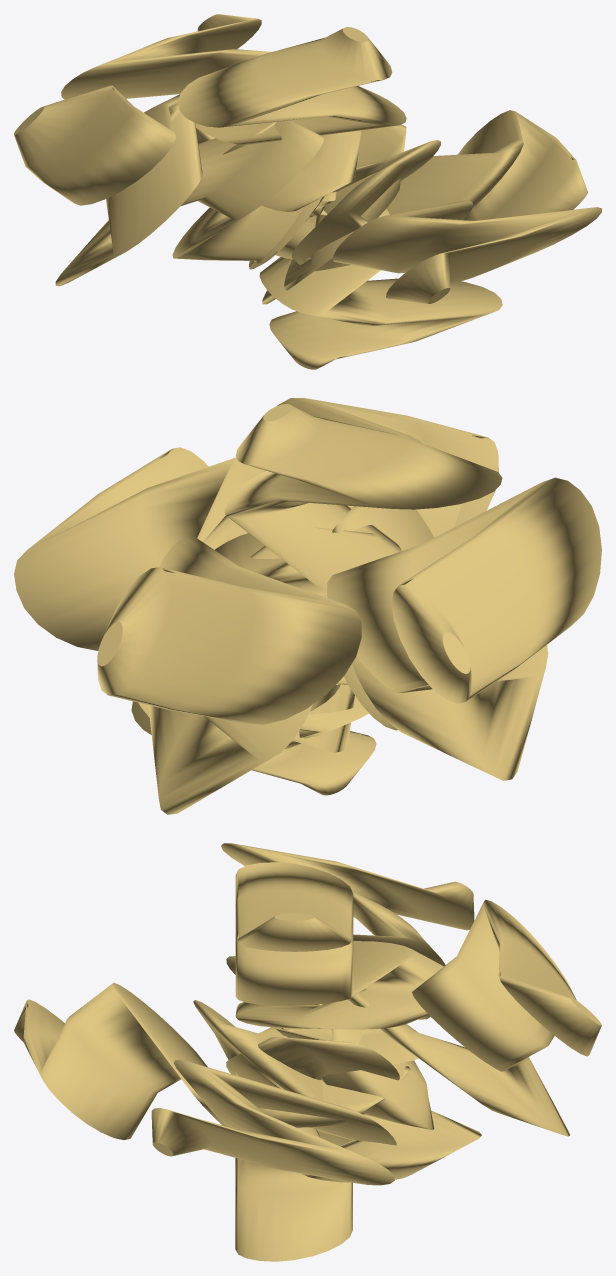
Rendered from orangeprotein.fbx.
3 renders of one model, top to bottom at view 1: azimuth 30°, elevation 25°; view 2: azimuth 150°, elevation 25°; view 3: azimuth 270°, elevation 25°, orthographic. The views are drawn at different scales.
Visible parts, largest first — view 1: pasted__pasted__pasted__pCylinder1, pasted__pCylinder1, pasted__pasted__pCylinder1; view 2: pasted__pasted__pasted__pCylinder1, pasted__pasted__pCylinder1, pasted__pCylinder1; view 3: pasted__pasted__pCylinder1, pasted__pCylinder1, pasted__pasted__pasted__pCylinder1.
Part boxes in pixels (x1,y1,x2,y2): pasted__pasted__pasted__pCylinder1: [14, 85, 587, 304]; pasted__pCylinder1: [178, 27, 502, 369]; pasted__pasted__pCylinder1: [61, 14, 601, 303]; pasted__pasted__pasted__pCylinder1: [14, 447, 601, 780]; pasted__pasted__pCylinder1: [97, 398, 498, 814]; pasted__pCylinder1: [131, 404, 502, 795]; pasted__pasted__pCylinder1: [14, 899, 601, 1139]; pasted__pCylinder1: [235, 862, 481, 1261]; pasted__pasted__pasted__pCylinder1: [151, 843, 474, 1185].
Bounding box in the file's own units: 16.41 × 10.69 × 18.16.
